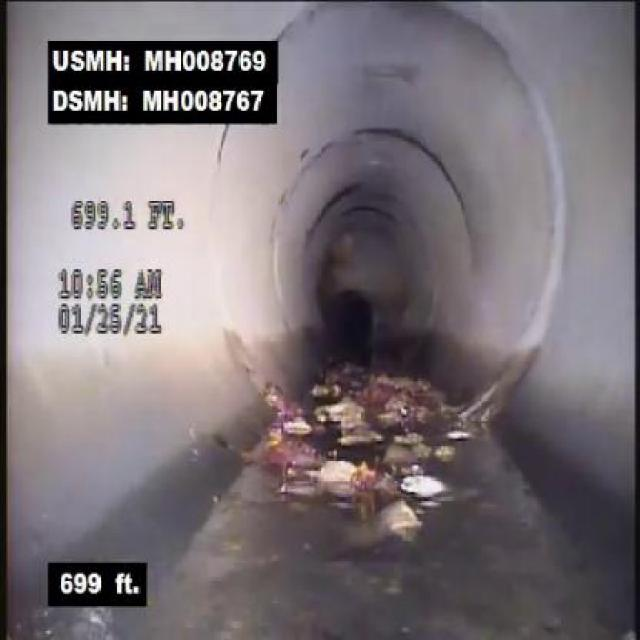Debris: (275, 440, 477, 560)
